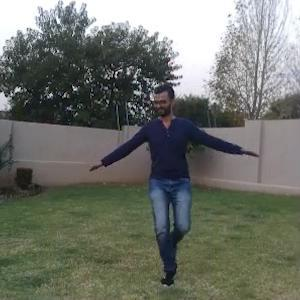land: (89, 66, 299, 298)
